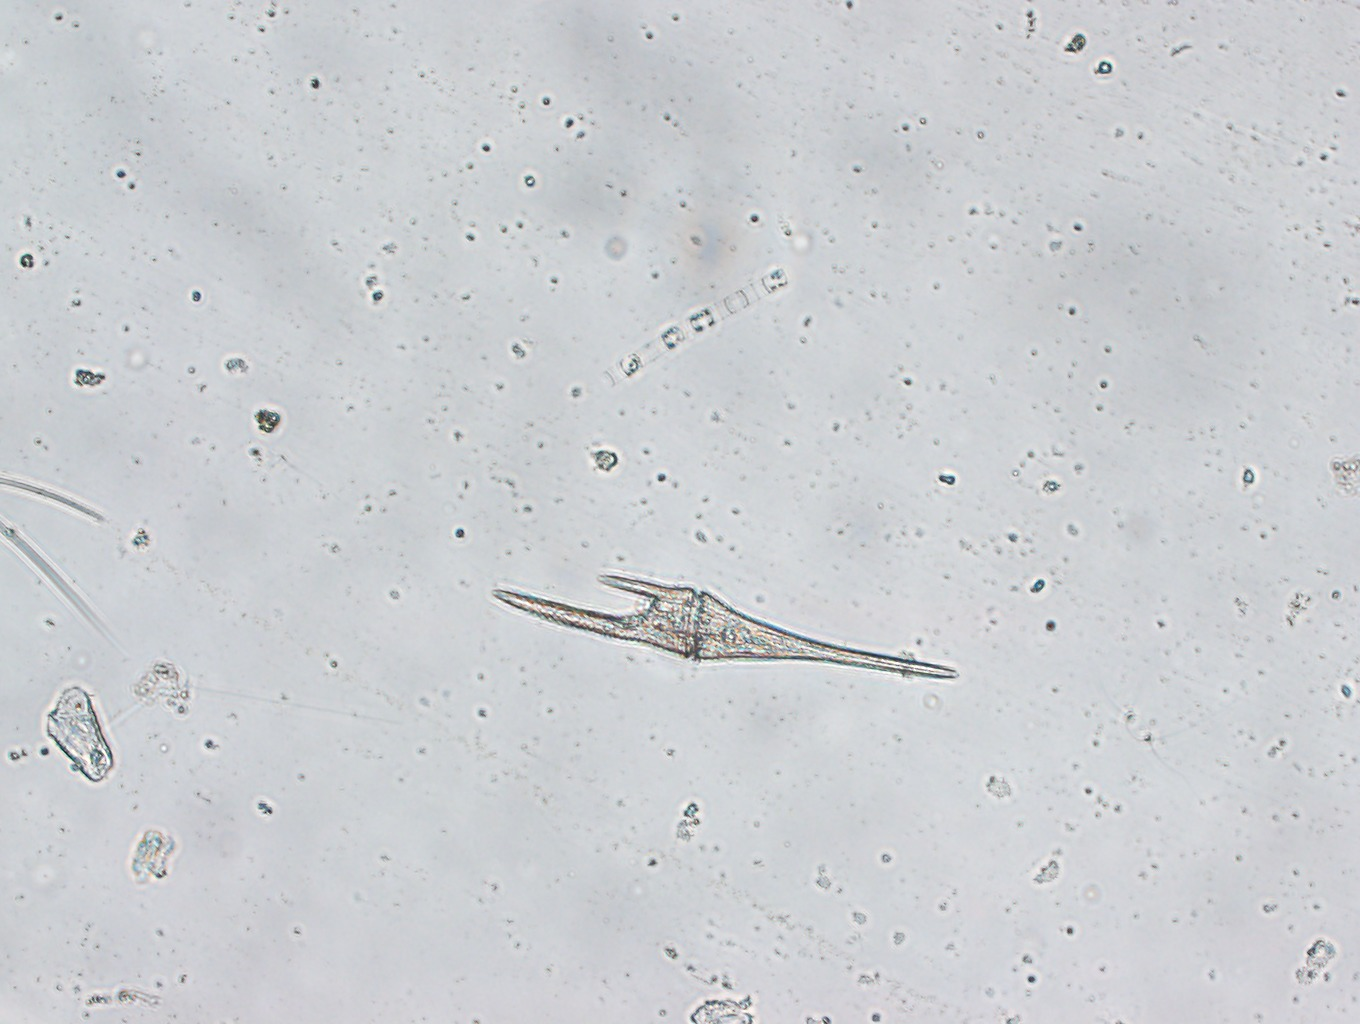ceratium furca: (490, 572, 963, 681)
skeletonema: (604, 267, 791, 387)
